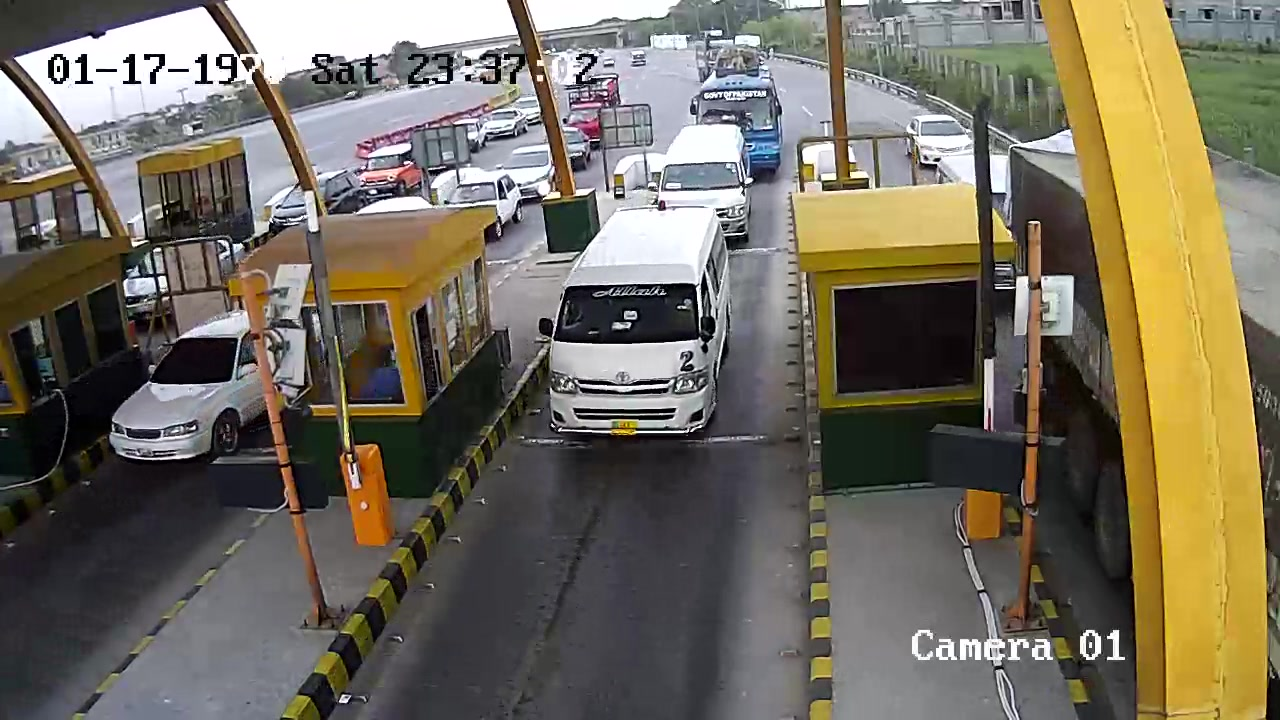F3: (547, 202, 732, 443)
